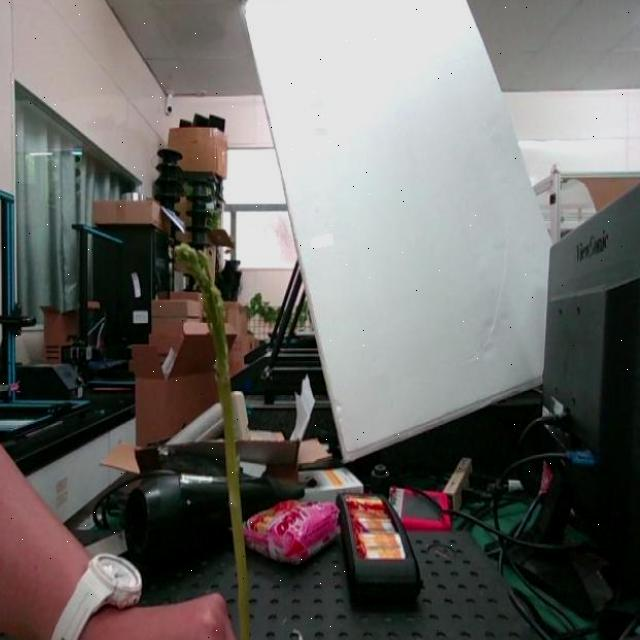aspargus: (188, 241, 253, 640)
